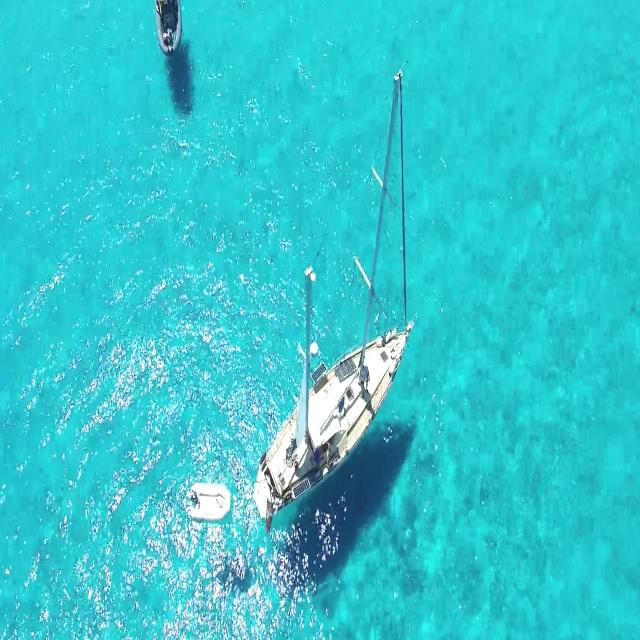ship: (252, 318, 410, 525)
